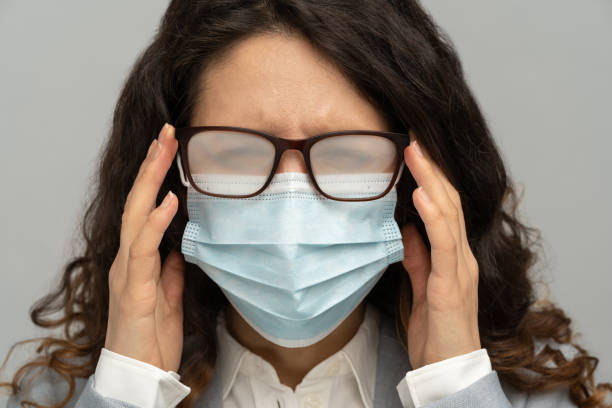with mask: (146, 4, 431, 339)
